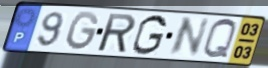9: (35, 10, 68, 48)
G: (130, 13, 169, 57), (65, 10, 101, 53)
N: (166, 16, 212, 58)
Q: (201, 17, 238, 61)
R: (97, 12, 138, 54)
